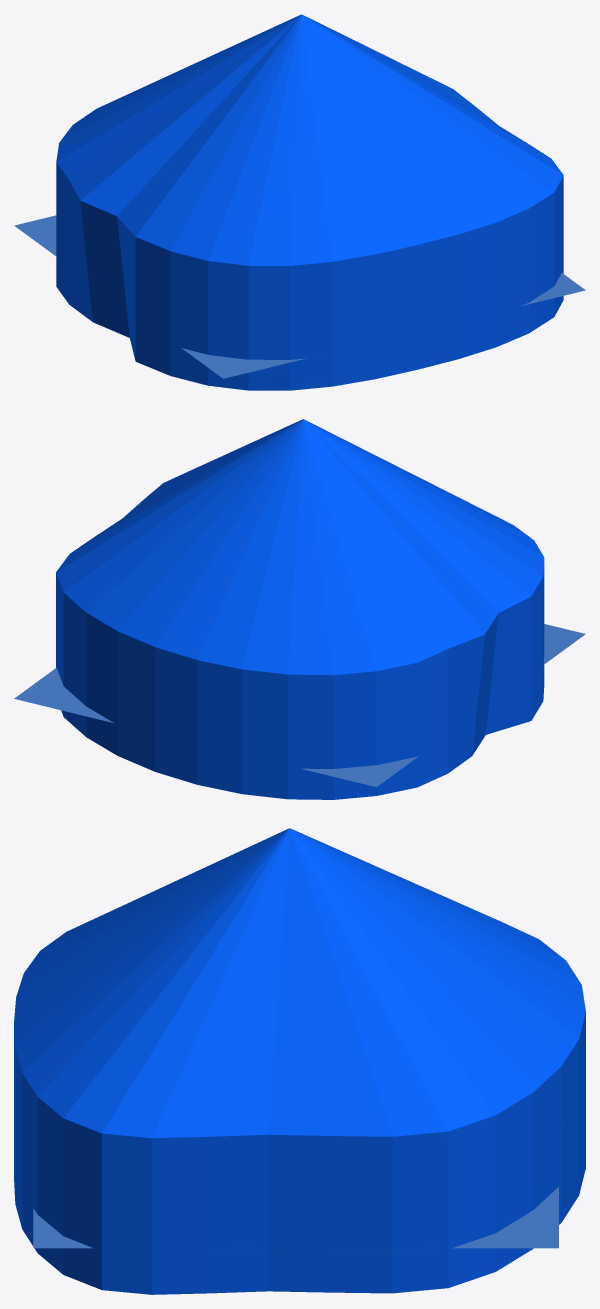
The model's file is mapaIsla.obj.
The picture shows the model from 3 angles, top to bottom: view 1: azimuth 30°, elevation 25°; view 2: azimuth 150°, elevation 25°; view 3: azimuth 270°, elevation 25°; orthographic projection. The views are drawn at different scales.
Parts seen in each view (by area): view 1: Cylinder, Plane_Plane.001; view 2: Cylinder, Plane_Plane.001; view 3: Cylinder, Plane_Plane.001.
Part boxes in pixels (<box>): Cylinder: <box>56,14,563,390</box>; Plane_Plane.001: <box>14,215,585,378</box>; Cylinder: <box>56,419,544,799</box>; Plane_Plane.001: <box>14,624,585,787</box>; Cylinder: <box>14,828,585,1294</box>; Plane_Plane.001: <box>33,1187,558,1248</box>.
Bounding box in the file's own units: 1061 × 707 × 1056.
174 materials, 174 textured.
